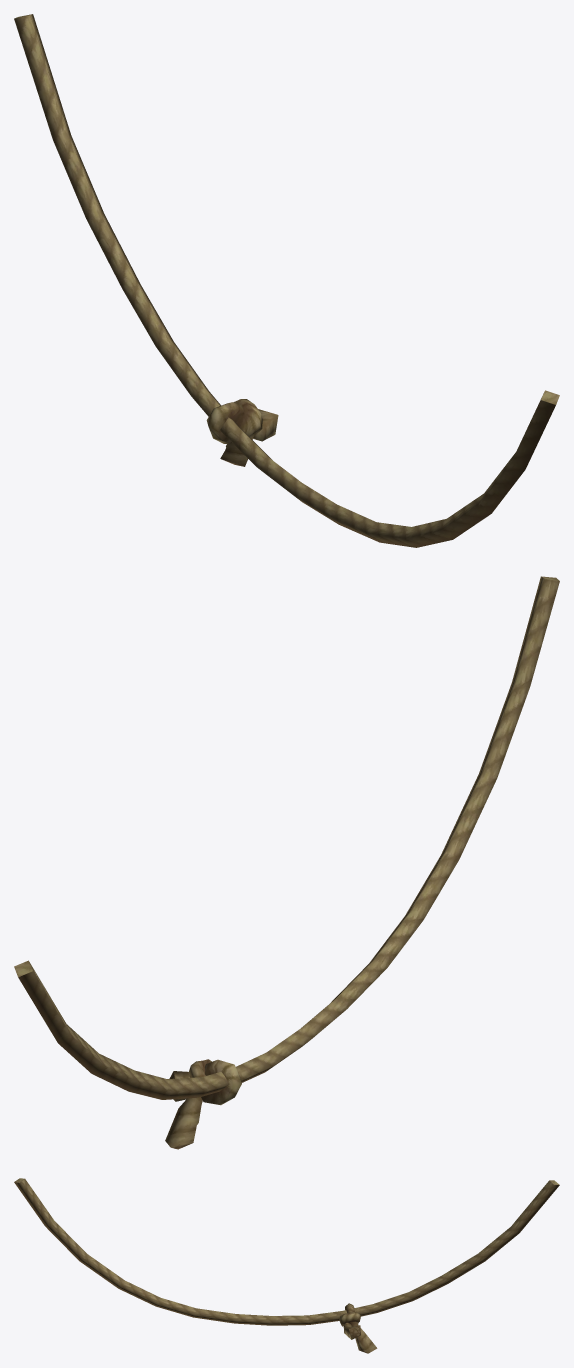
The picture shows the model from 3 angles, top to bottom: view 1: azimuth 30°, elevation 25°; view 2: azimuth 150°, elevation 25°; view 3: azimuth 270°, elevation 25°; orthographic projection. The views are drawn at different scales.
Bounding box in the file's own units: 0.5182 × 2.36 × 6.98.
2 materials, 2 textured.
